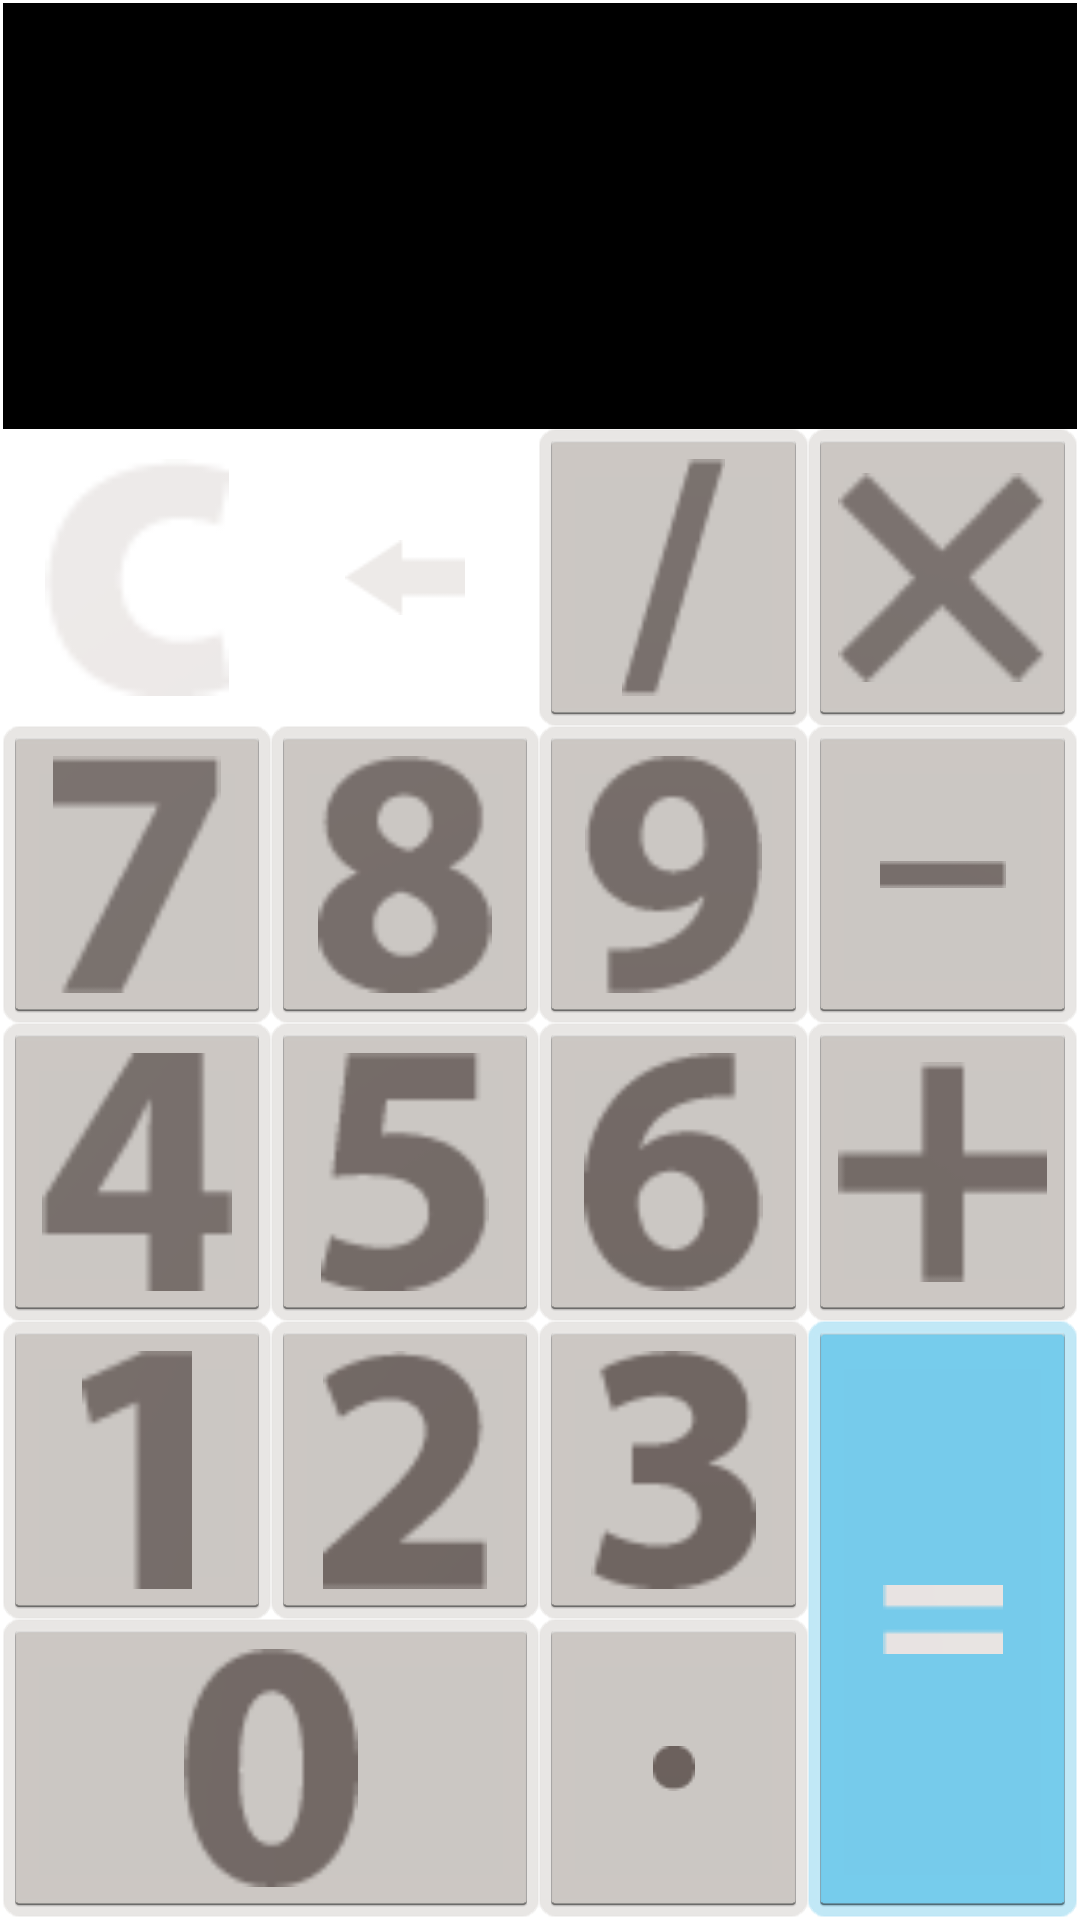

Named icons in this screenshot (1080 × 1920) and their centers, (x,y):
symbol divide: (673,577)
symbol dot: (673,1768)
symbol minus: (942,875)
symbol multiply: (942,577)
symbol plus: (942,1172)
